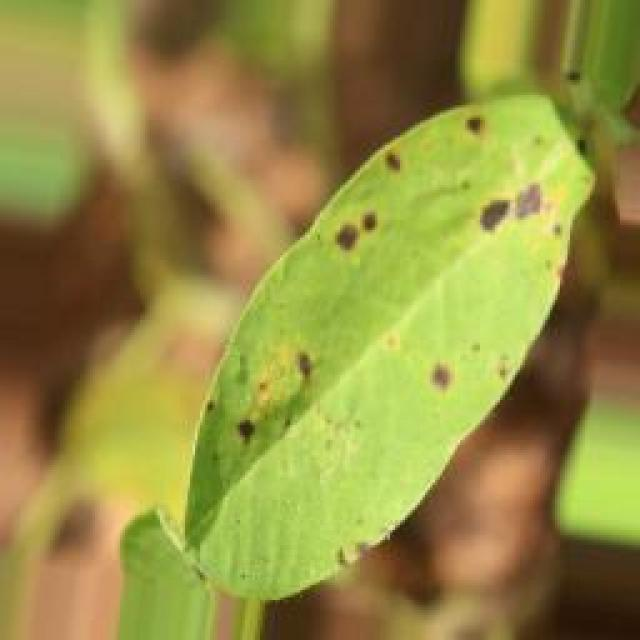Yellowish: (180, 54, 604, 537)
